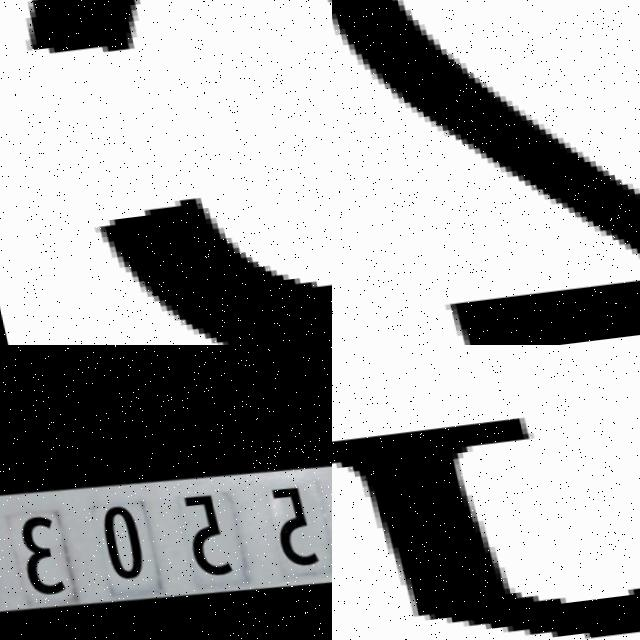0: (85, 496, 154, 584)
2: (332, 0, 640, 345)
3: (0, 505, 72, 599)
5: (166, 484, 243, 581), (255, 478, 328, 572)
G: (332, 345, 640, 640)
